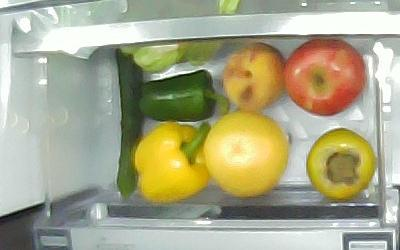apple: (284, 38, 366, 116)
cucumber: (115, 49, 143, 202)
grapefruit: (204, 111, 287, 198)
lettuce: (120, 39, 225, 73)
paprika: (134, 121, 211, 203), (139, 69, 229, 121)
peach: (223, 43, 285, 110)
persimmon: (306, 128, 375, 201)
